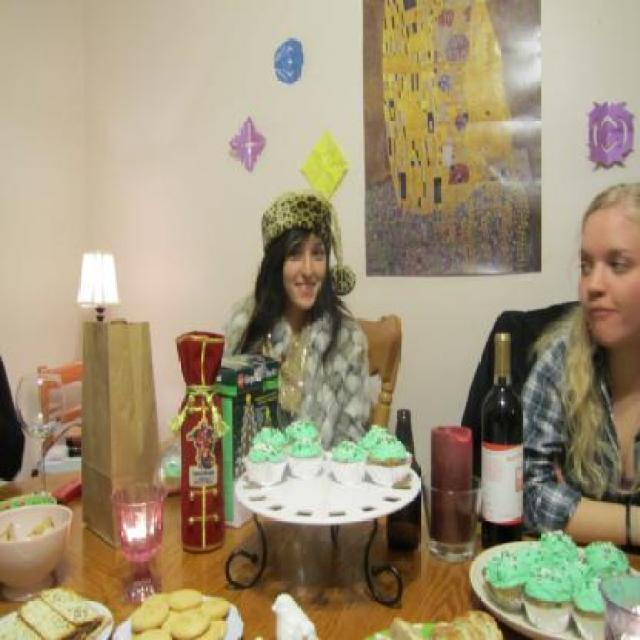Muffin: (480, 527, 633, 640), (239, 416, 412, 487)
